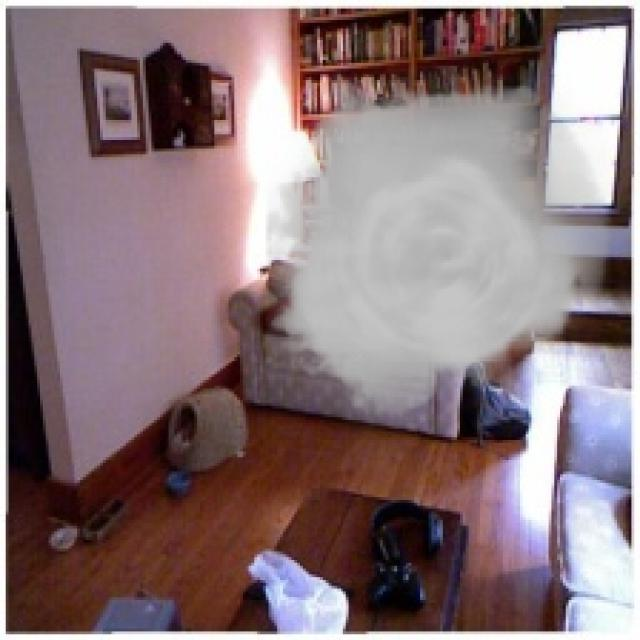smoke: (266, 66, 611, 428)
